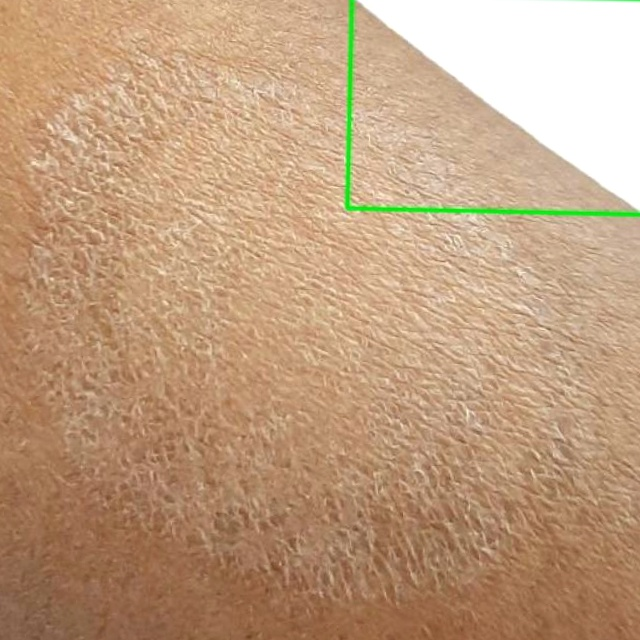Tinea Corporis: (347, 0, 639, 214)
